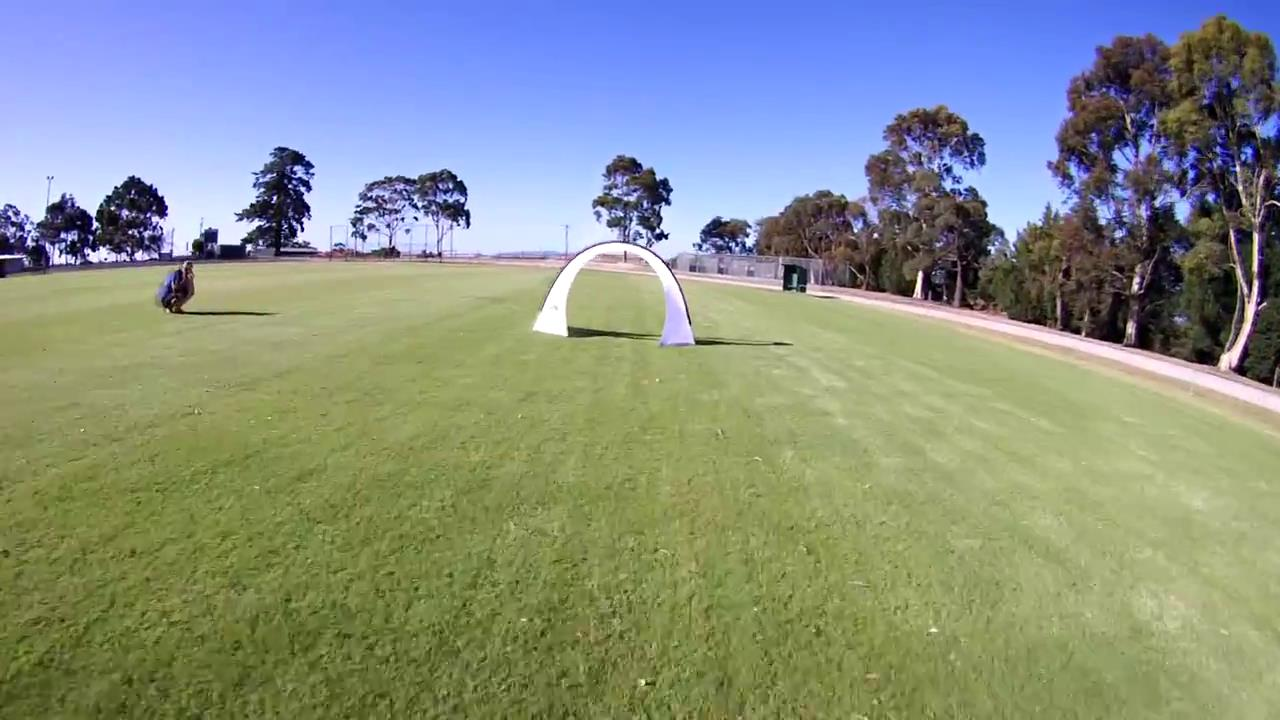gate: (530, 240, 699, 351)
